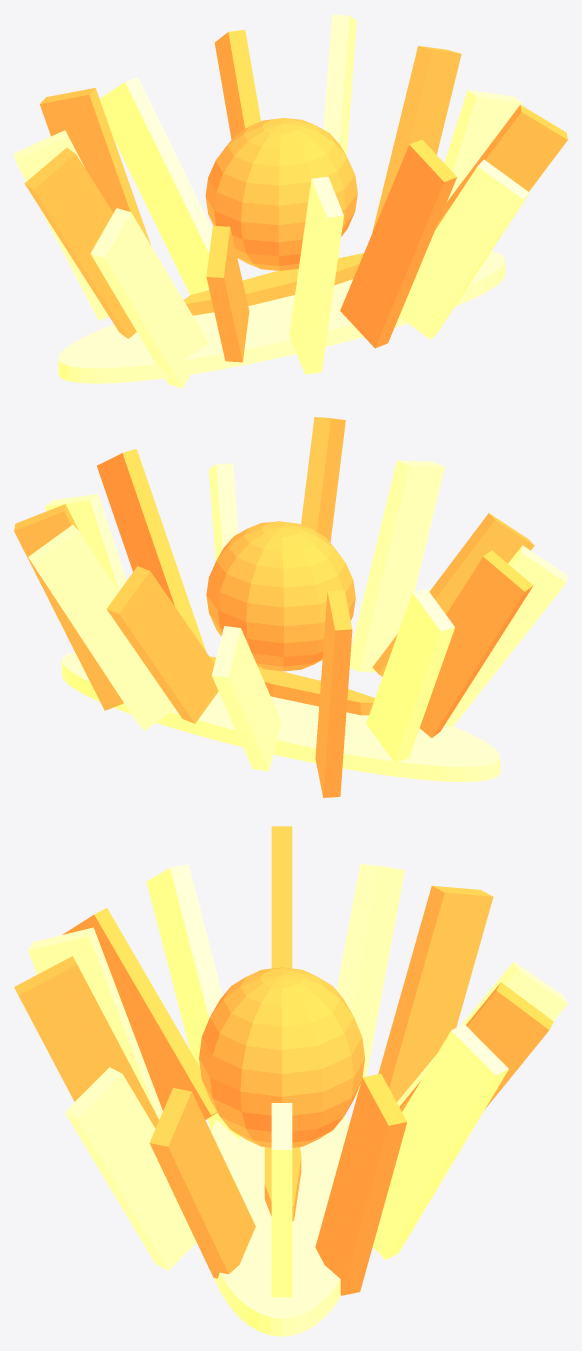
The model's file is crit_bone_crown.glb.
The picture shows the model from 3 angles, top to bottom: view 1: azimuth 30°, elevation 25°; view 2: azimuth 150°, elevation 25°; view 3: azimuth 270°, elevation 25°; orthographic projection. The views are drawn at different scales.
Parts seen in each view (by area): view 1: crit bone crown impact heart, crit bone crown halo, crit bone crown spike 11, crit bone crown spike 4, crit bone crown spike 12, crit bone crown spike 8, crit bone crown spike 7, crit bone crown spike 10, crit bone crown spike 5, crit bone crown spike 1, crit bone crown spike 13, crit bone crown spike 9 (+5 smaller); view 2: crit bone crown impact heart, crit bone crown halo, crit bone crown spike 10, crit bone crown spike 2, crit bone crown spike 3, crit bone crown spike 7, crit bone crown spike 6, crit bone crown spike 13, crit bone crown spike 4, crit bone crown spike 5, crit bone crown spike 8, crit bone crown spike 11 (+5 smaller); view 3: crit bone crown impact heart, crit bone crown halo, crit bone crown spike 2, crit bone crown spike 5, crit bone crown spike 12, crit bone crown spike 1, crit bone crown spike 13, crit bone crown spike 11, crit bone crown spike 9, crit bone crown spike 8, crit bone crown spike 6, crit bone crown spike 10 (+5 smaller).
Part boxes in pixels (x1=…): crit bone crown impact heart: x1=205, y1=118, x2=357, y2=270; crit bone crown halo: x1=58, y1=251, x2=505, y2=383; crit bone crown spike 11: x1=340, y1=139, x2=456, y2=348; crit bone crown spike 4: x1=99, y1=77, x2=212, y2=294; crit bone crown spike 12: x1=399, y1=159, x2=529, y2=339; crit bone crown spike 8: x1=90, y1=208, x2=208, y2=388; crit bone crown spike 7: x1=24, y1=147, x2=136, y2=338; crit bone crown spike 10: x1=289, y1=176, x2=343, y2=374; crit bone crown spike 5: x1=39, y1=88, x2=150, y2=244; crit bone crown spike 1: x1=372, y1=46, x2=461, y2=233; crit bone crown spike 13: x1=435, y1=104, x2=567, y2=230; crit bone crown spike 9: x1=206, y1=225, x2=249, y2=362; crit bone crown impact heart: x1=206, y1=521, x2=355, y2=671; crit bone crown halo: x1=61, y1=652, x2=500, y2=781; crit bone crown spike 10: x1=349, y1=460, x2=444, y2=672; crit bone crown spike 2: x1=28, y1=524, x2=175, y2=730; crit bone crown spike 3: x1=107, y1=566, x2=218, y2=723; crit bone crown spike 7: x1=420, y1=550, x2=533, y2=737; crit bone crown spike 6: x1=366, y1=588, x2=454, y2=762; crit bone crown spike 13: x1=97, y1=449, x2=206, y2=651; crit bone crown spike 4: x1=211, y1=626, x2=281, y2=771; crit bone crown spike 5: x1=315, y1=590, x2=352, y2=797; crit bone crown spike 8: x1=444, y1=545, x2=567, y2=726; crit bone crown spike 11: x1=301, y1=417, x2=345, y2=542; crit bone crown impact heart: x1=199, y1=967, x2=364, y2=1147; crit bone crown halo: x1=211, y1=1115, x2=349, y2=1336; crit bone crown spike 2: x1=372, y1=1024, x2=508, y2=1259; crit bone crown spike 5: x1=378, y1=885, x2=493, y2=1101; crit bone crown spike 12: x1=65, y1=1067, x2=196, y2=1270; crit bone crown spike 1: x1=315, y1=1073, x2=407, y2=1295; crit bone crown spike 13: x1=149, y1=1087, x2=255, y2=1278; crit bone crown spike 11: x1=14, y1=956, x2=158, y2=1128; crit bone crown spike 9: x1=62, y1=908, x2=217, y2=1119; crit bone crown spike 8: x1=146, y1=864, x2=243, y2=1139; crit bone crown spike 6: x1=336, y1=864, x2=404, y2=1098; crit bone crown spike 10: x1=28, y1=927, x2=162, y2=1119.
Bounding box in the file's own units: 0.7976 × 0.3872 × 0.6669.
